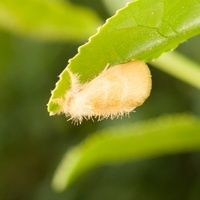insect: (48, 61, 151, 123)
